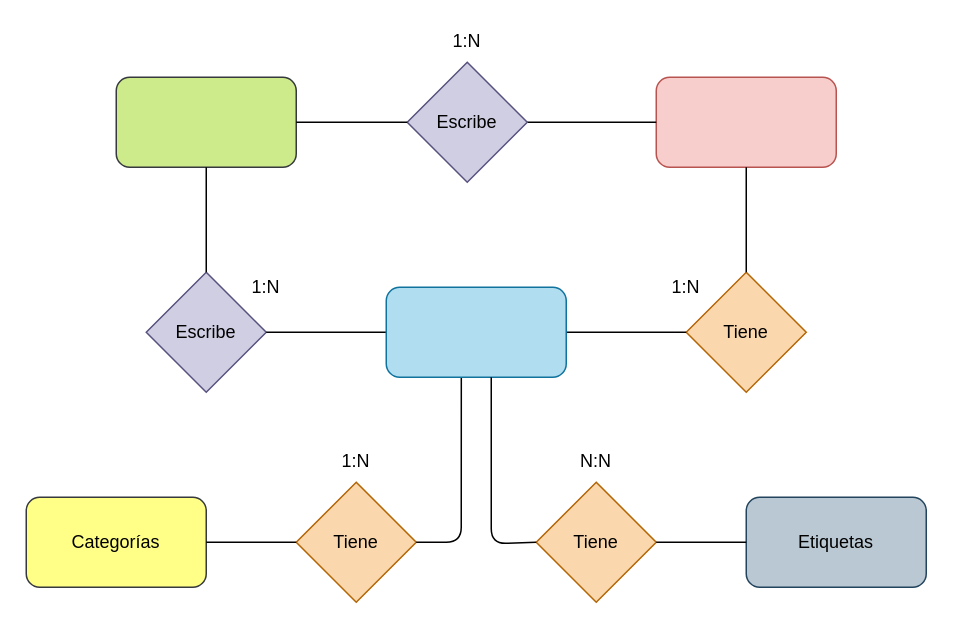
Image size: 953x629. Some labels were removed from this diagram. Each missing label, with the box of its shape:
Comentarios: (655, 76, 836, 167)
Post: (385, 286, 566, 377)
Usuarios: (115, 76, 296, 167)
